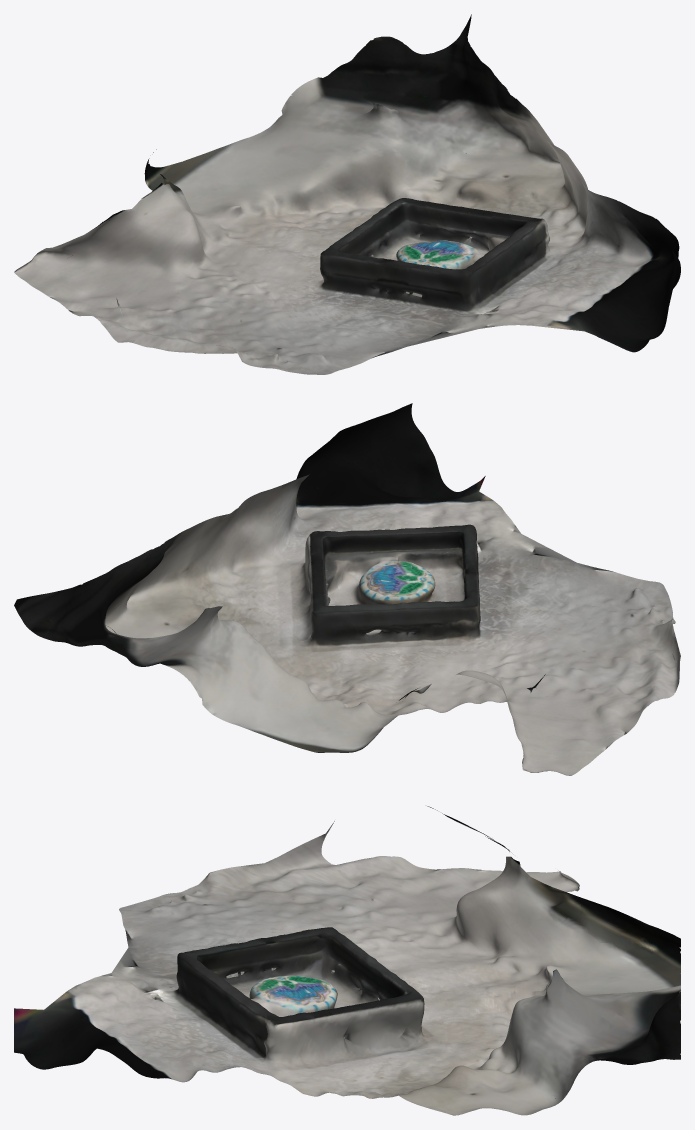
3 renders of one model, top to bottom at view 1: azimuth 30°, elevation 25°; view 2: azimuth 150°, elevation 25°; view 3: azimuth 270°, elevation 25°, orthographic. The views are drawn at different scales.
Bounding box in the file's own units: 1.89 × 0.3447 × 1.97.
Materials: 1 (1 with a texture image).
